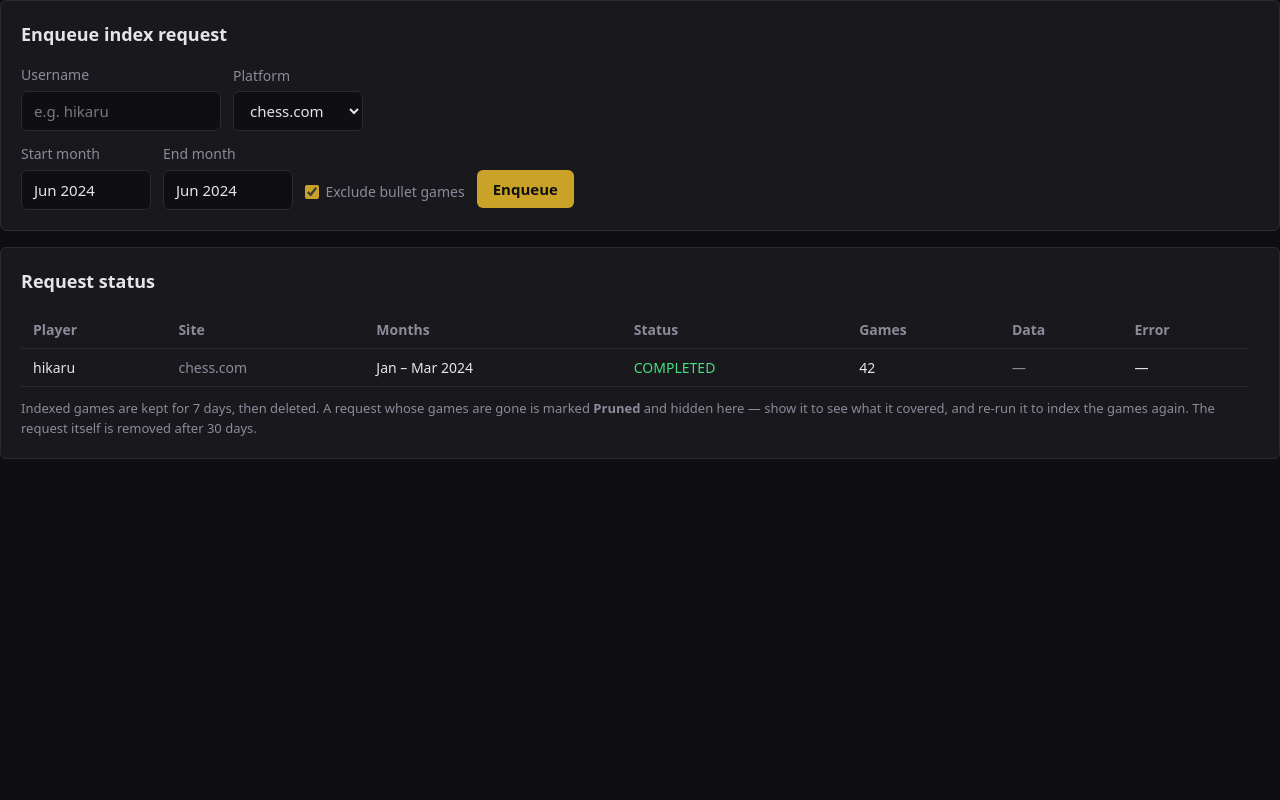
Test: IndexView › will not offer an end month before the start, or a future month
Step 1. Click the button named "Start month" → (86, 190), box left=21, top=170, right=151, bottom=210
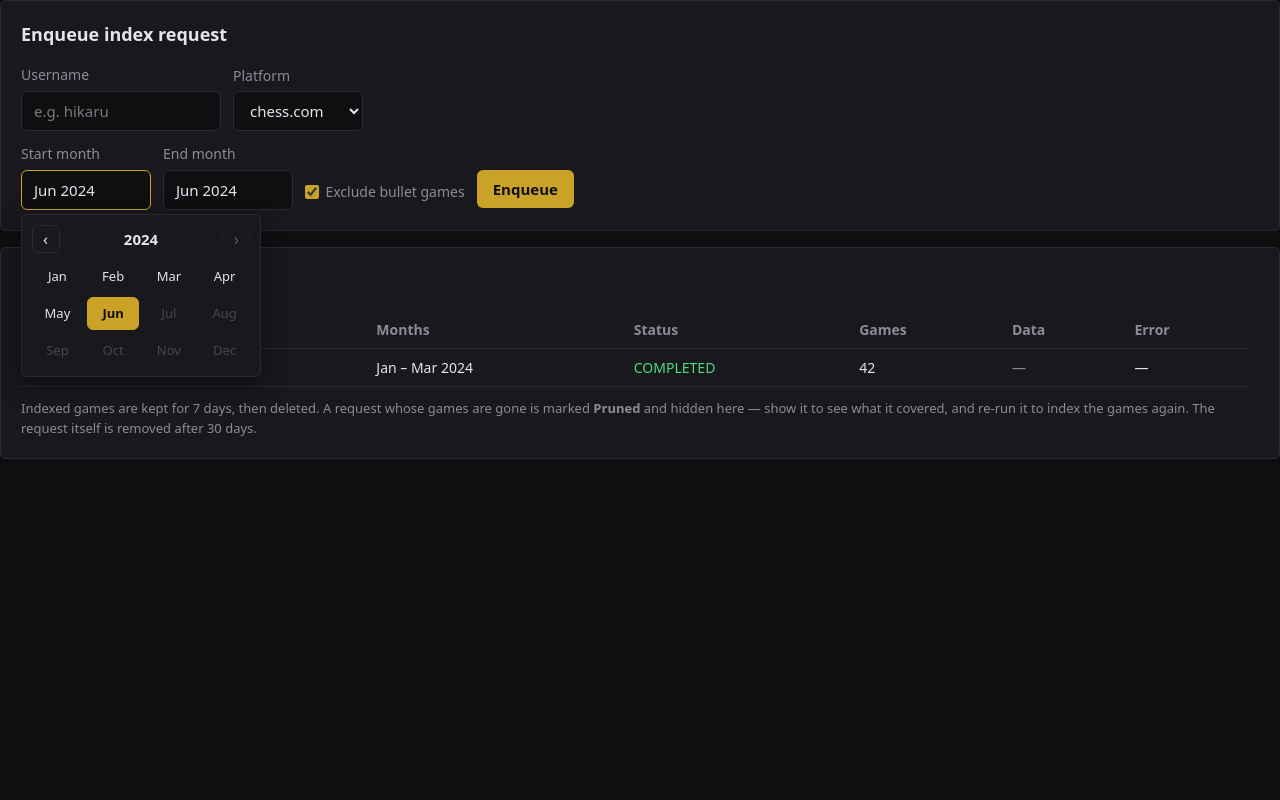
Step 2. Click the button "Mar" → (169, 277), box left=143, top=261, right=195, bottom=294
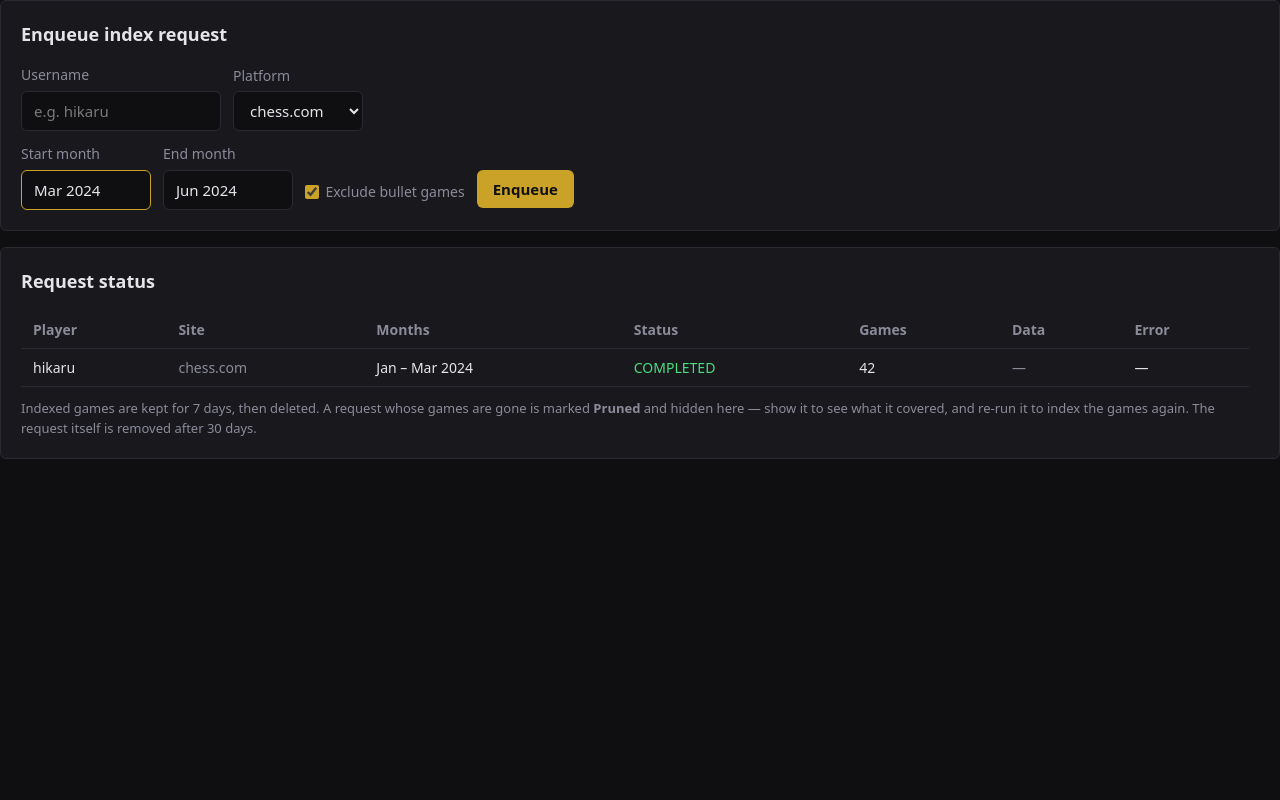
Step 3. Click the button "Jun 2024" → (228, 190), box left=163, top=170, right=293, bottom=210
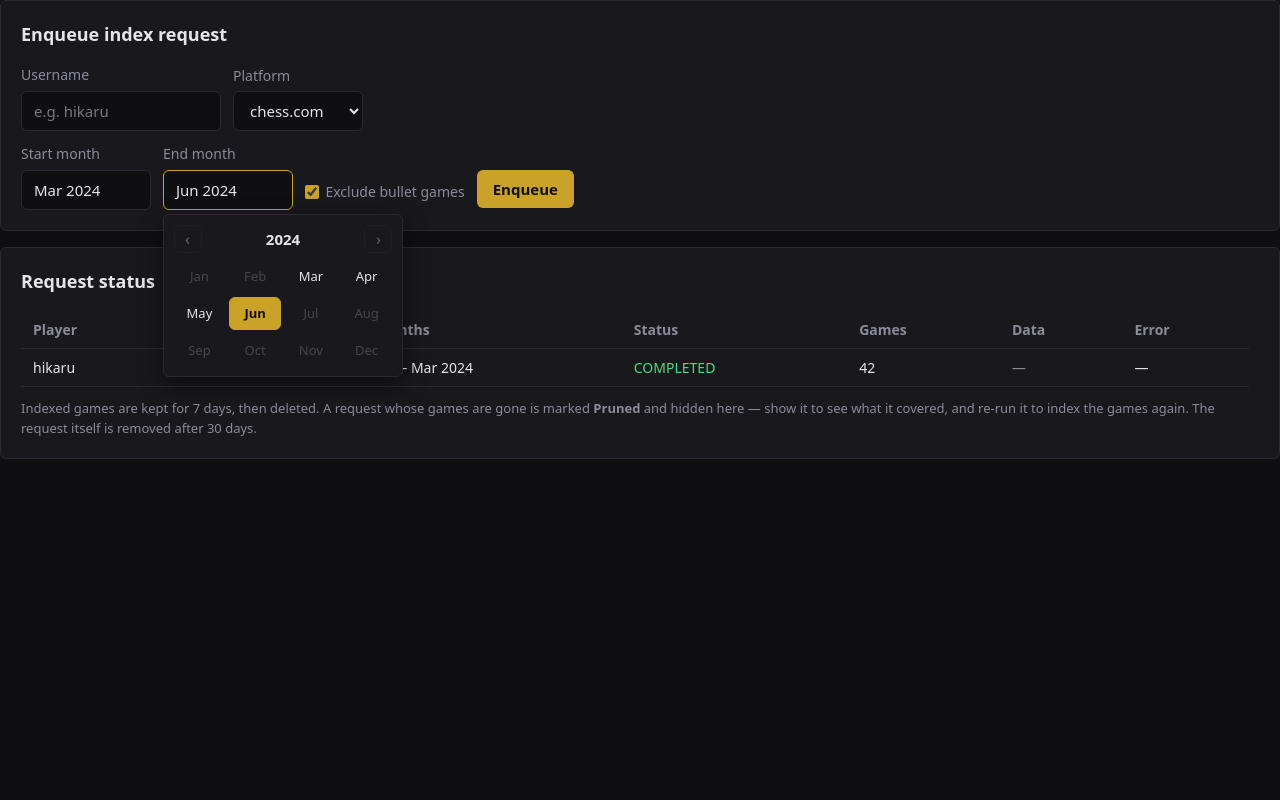
Result: the button "Feb" is disabled at left=229, top=261, right=281, bottom=294
Result: the button "Mar" is enabled at left=285, top=261, right=337, bottom=294
Result: the button "Jun" is enabled at left=229, top=298, right=281, bottom=330
